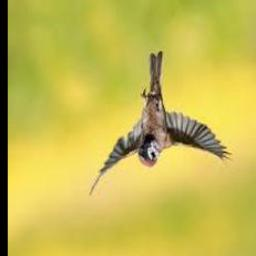Sparrow: (91, 51, 233, 197)
